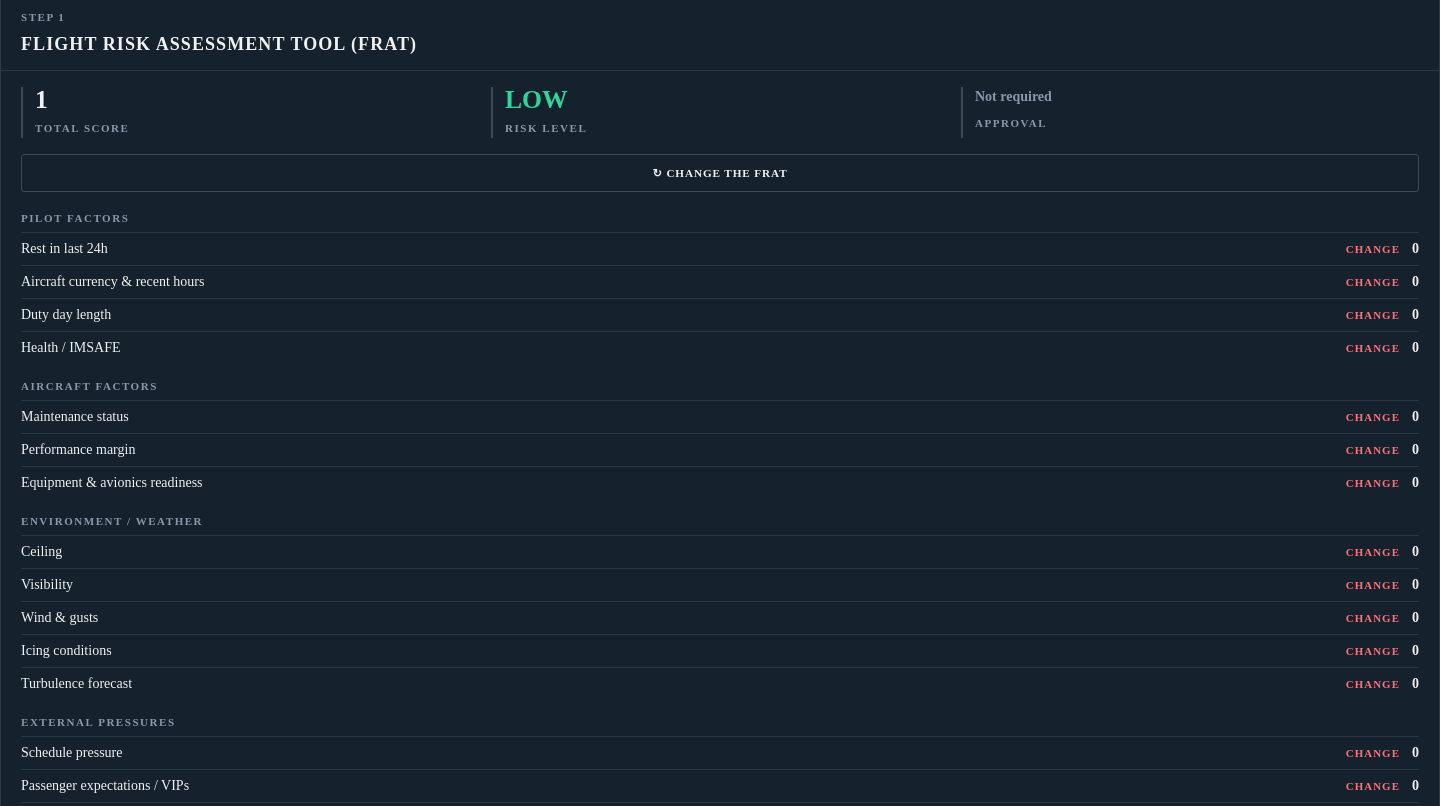
Test: mountain terrain, yes or no (LOG-03) › scores a yes on file for this flight's night when the FRAT is changed
This screenshot has width=1440, height=806.
Click the button "↻ Change the FRAT": coordinates (720, 173) [21,154,1419,192]
(page scrolled)
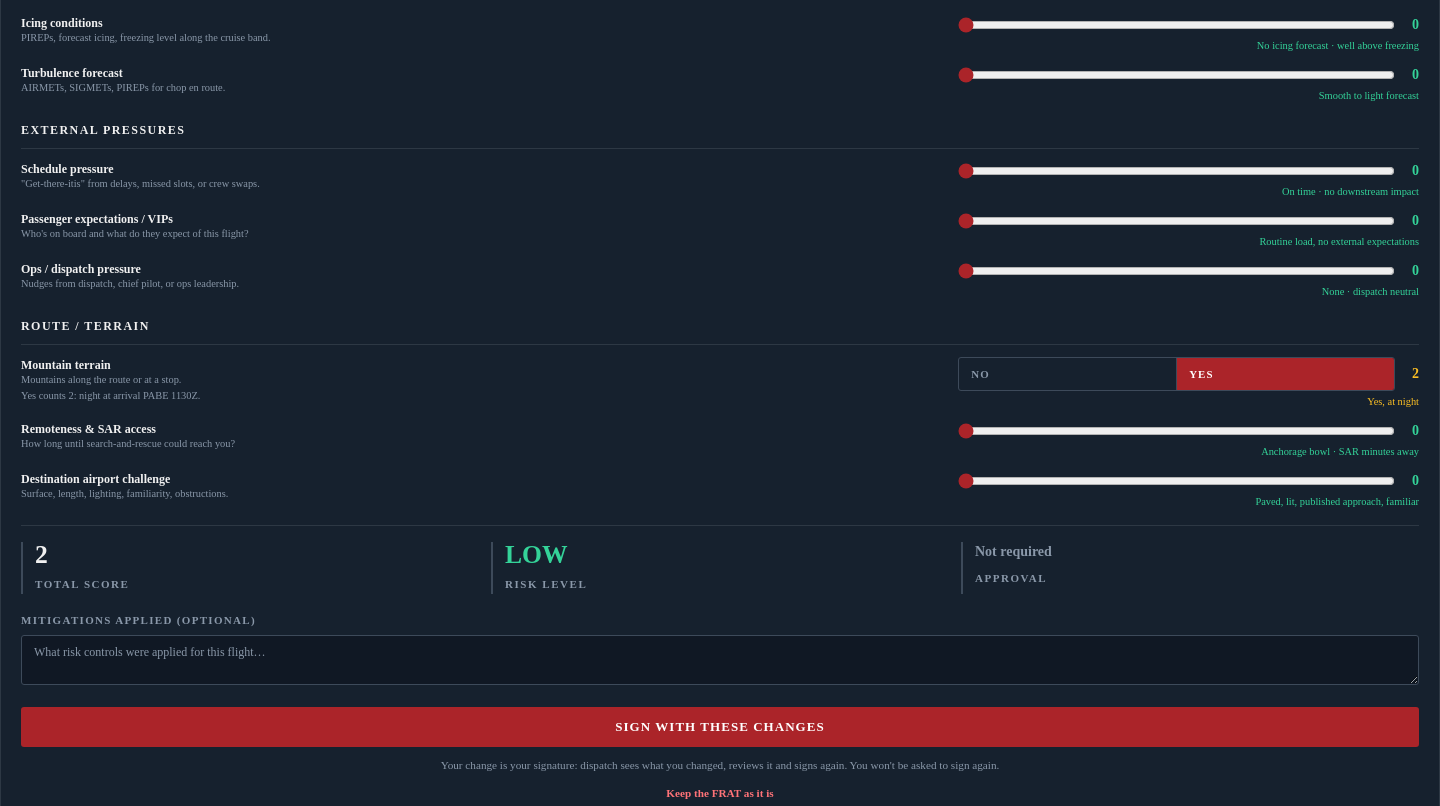
Result: the text "Yes, at night" is shown at [1367,396,1419,406]
